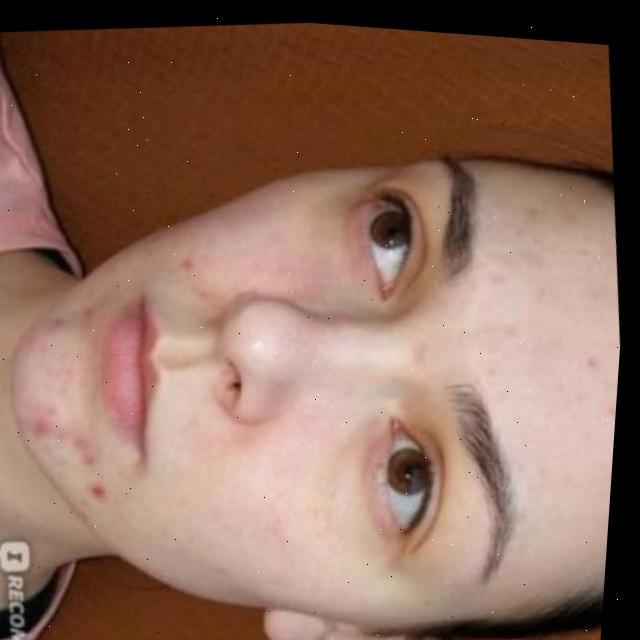Acne: (7, 321, 127, 504)
